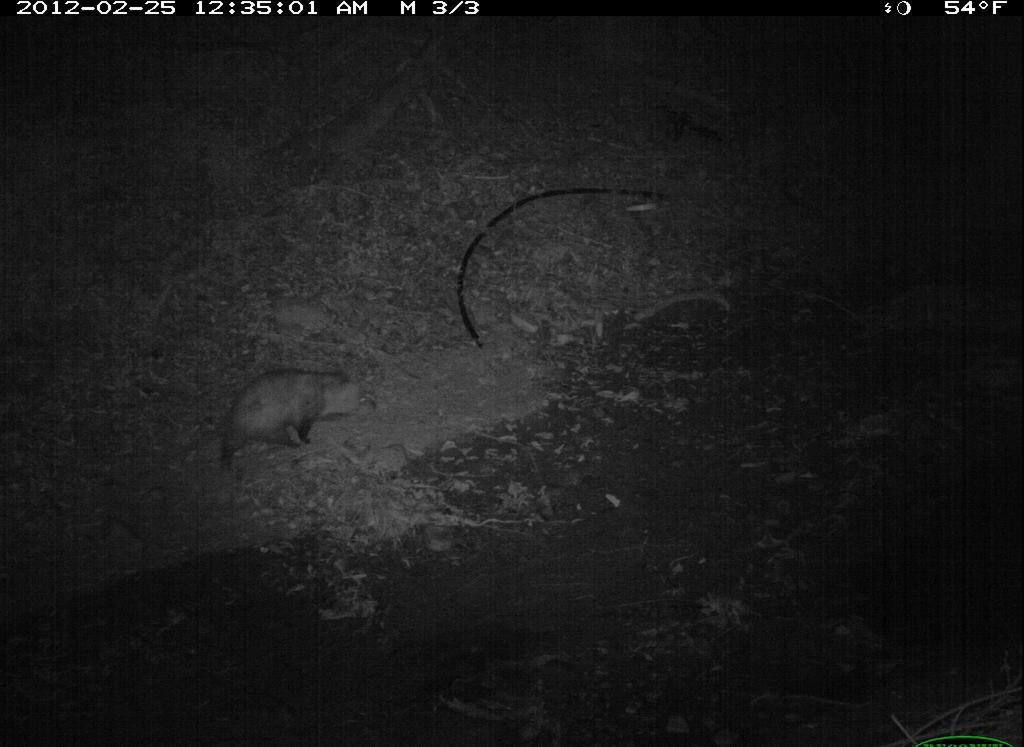opossum: (201, 350, 381, 484)
